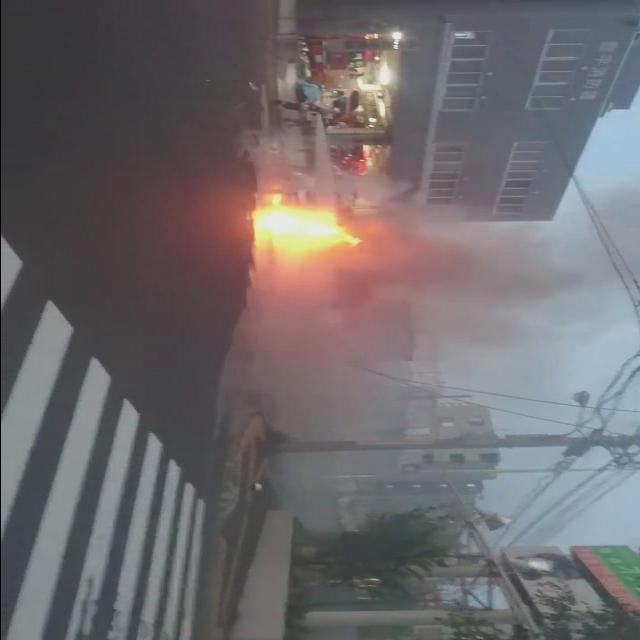Fire: (248, 196, 359, 260)
